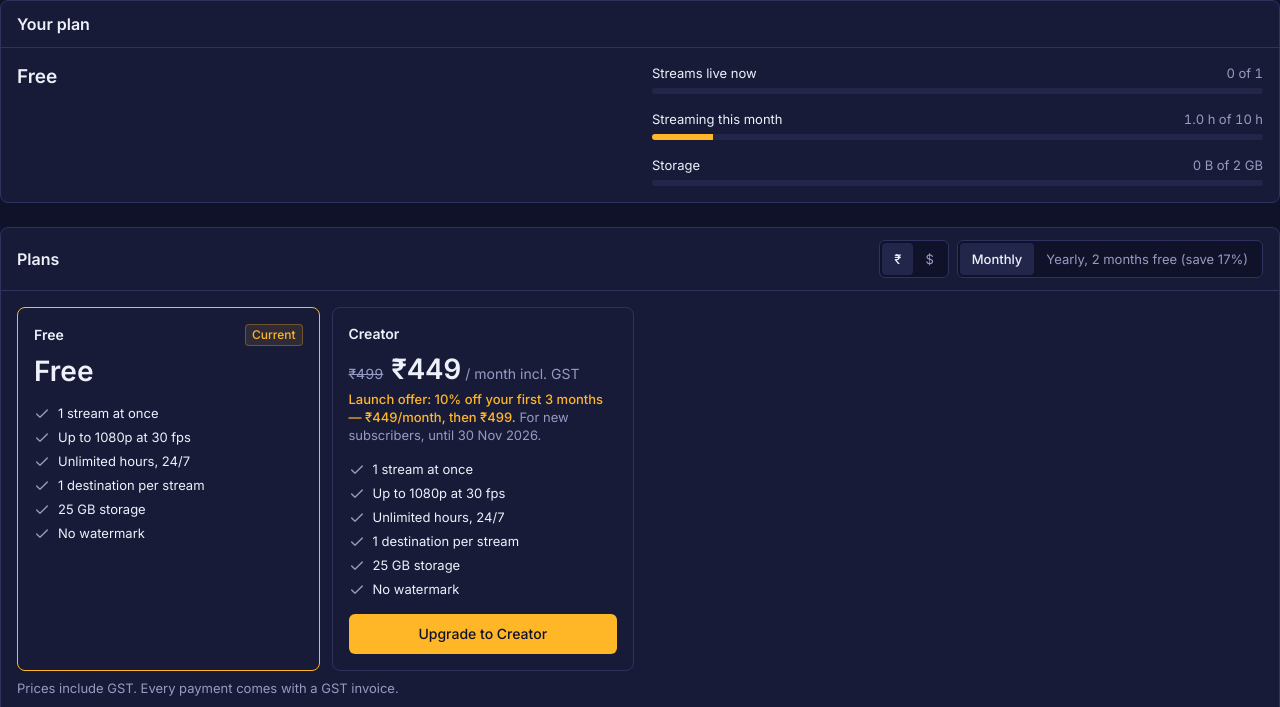
Test case: Billing plans with and without a launch offer (BI-9) › shows the real list price struck next to the offer price, and a quote with the discount and what it renews at
Expected: the text "Launch offer: 10% off your first 3 months — ₹449/month, then ₹499." is shown, [348,391,603,425]
Expected: the text "For new subscribers, until 30 Nov 2026." is shown, [348,409,569,443]
Click the button "Upgrade to Creator".
click(483, 634)  # box [348,614,617,654]
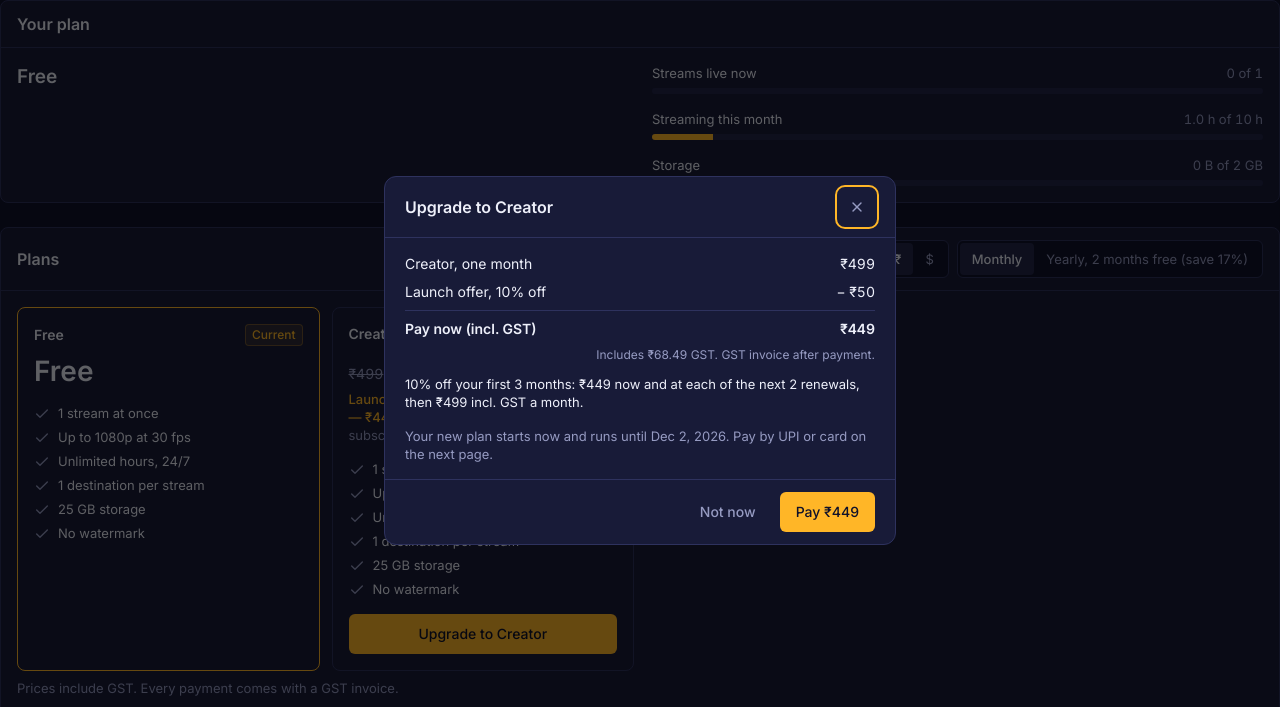
Expected: the text "Launch offer, 10% off" is shown, [405,282,546,302]
Expected: the text "− ₹50" is shown, [836,282,875,302]
Expected: the text "Pay now (incl. GST)" is shown, [405,318,537,338]
